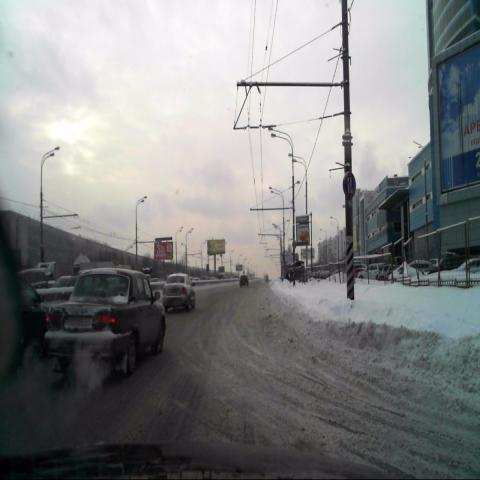3_30: (342, 172, 356, 197)
